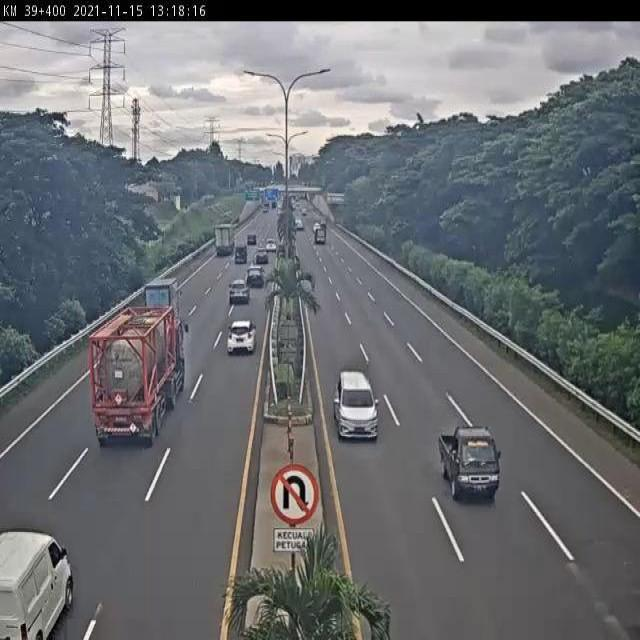car: (333, 367, 381, 441), (228, 317, 258, 359), (228, 279, 250, 308), (244, 264, 266, 291)
truck: (92, 304, 187, 445), (437, 420, 500, 503), (144, 276, 182, 331)
